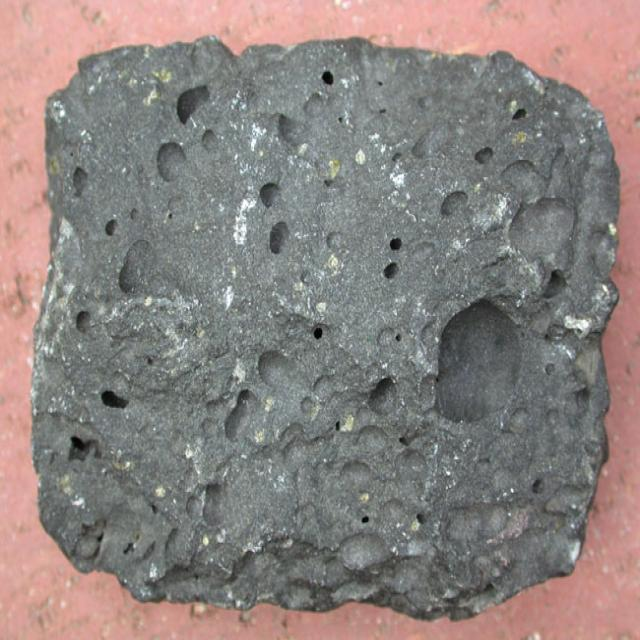Igneous: (39, 42, 616, 611)
